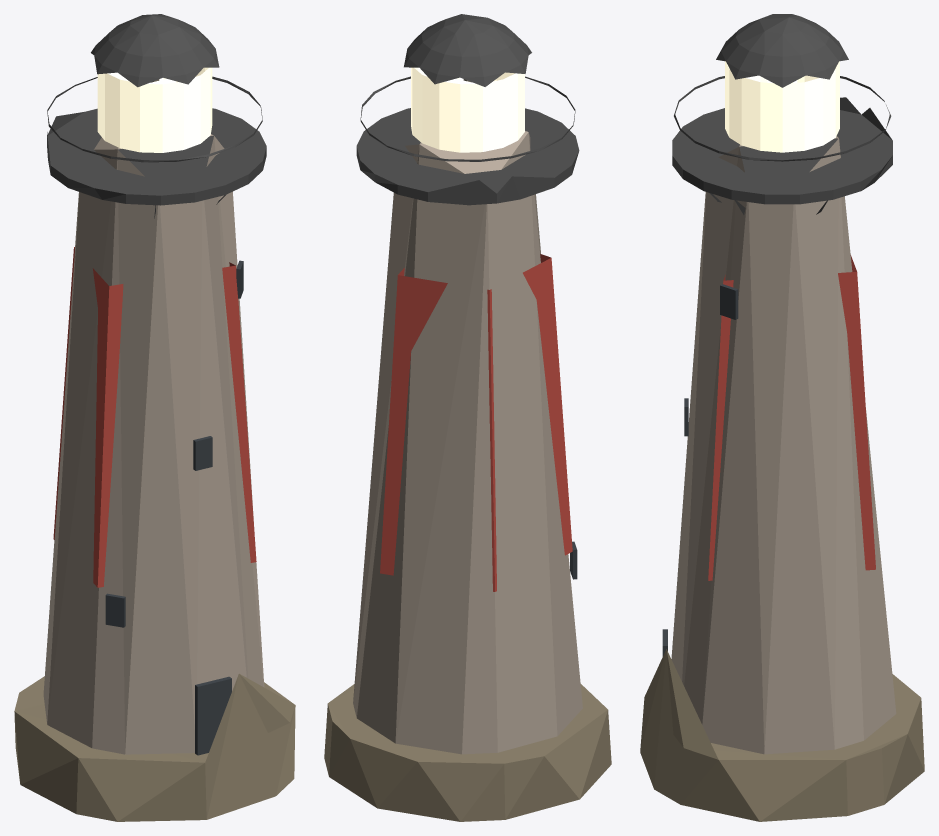
Rendered from lighthouse-lod1.glb.
3 renders of one model, left to right at view 1: azimuth 30°, elevation 25°; view 2: azimuth 150°, elevation 25°; view 3: azimuth 270°, elevation 25°, orthographic.
Bounding box in the file's own units: 7.9 × 22.8 × 7.9.
